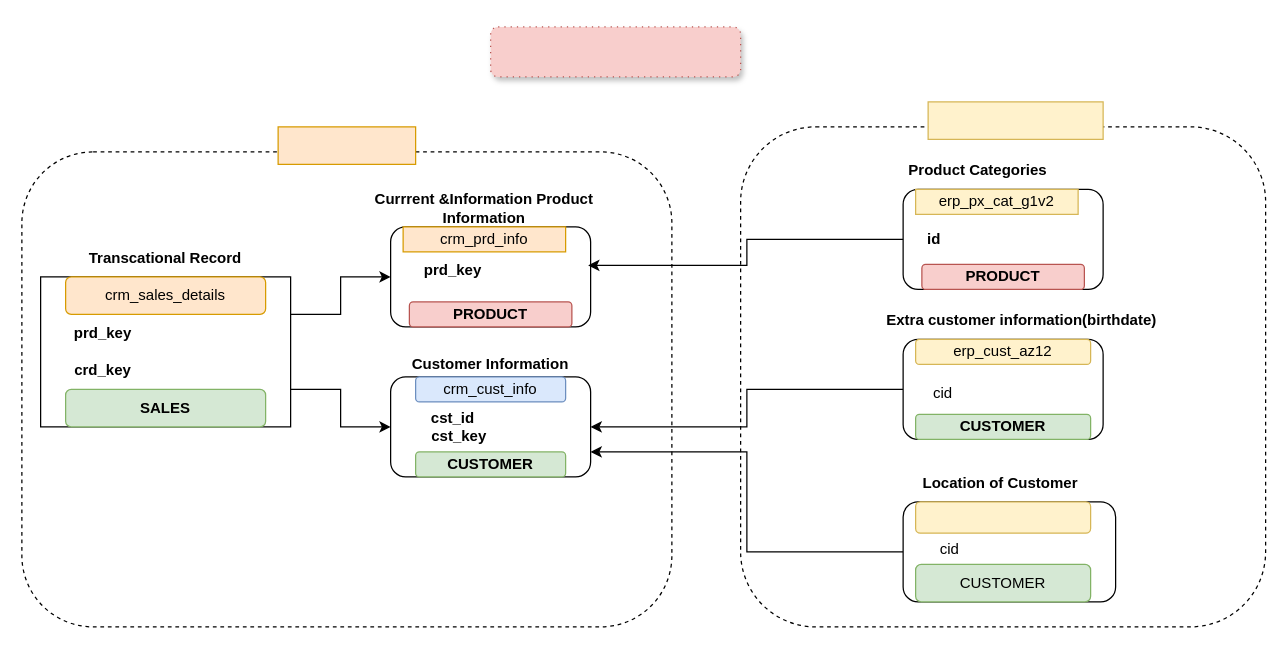
Image size: 1288x649. Some labels were removed from this diagram. The shapes that lost their labels are listed below. From the top down, each one's centre as x and y in pixels, then its label:
At point 616,53: "INTEGRATION MODEL".
At point 1015,120: "ERP".
At point 346,145: "CRM".
At point 1002,517: "erp_loc_a101".
